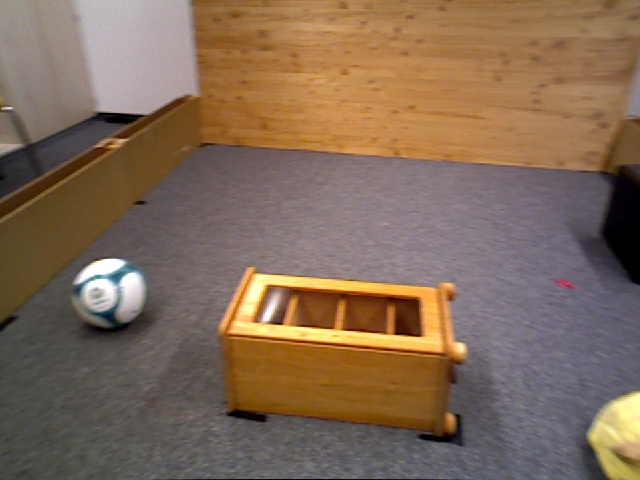grasp: (587, 388, 640, 478)
kick: (72, 256, 146, 331)
push: (606, 165, 639, 282)
